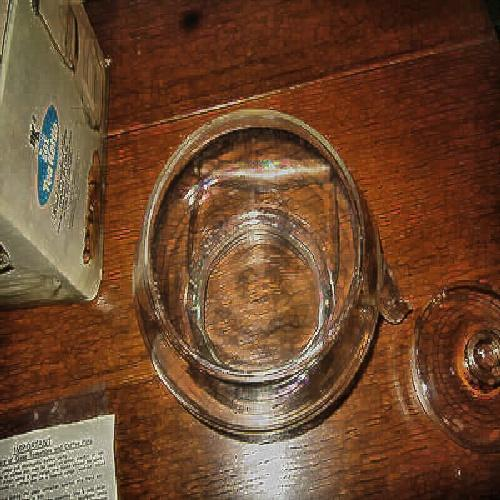kettle: (133, 121, 391, 433)
